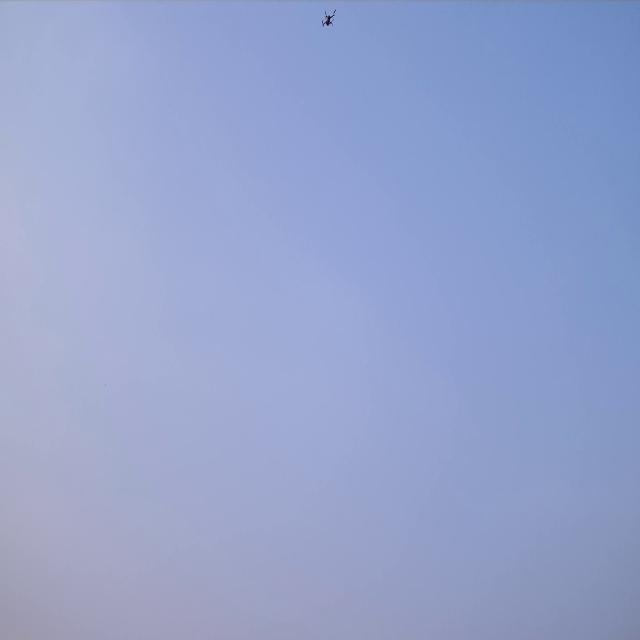UAV: (322, 11, 335, 26)
